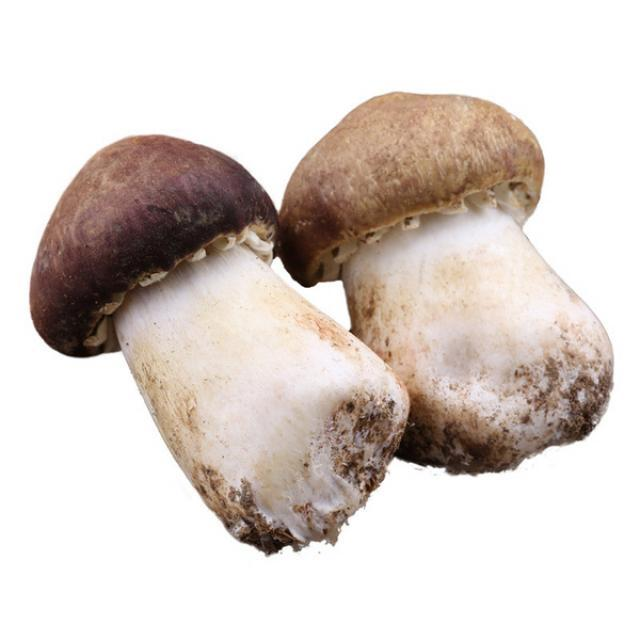Agaricus blazei Murill: (31, 132, 404, 553), (280, 90, 613, 476)
